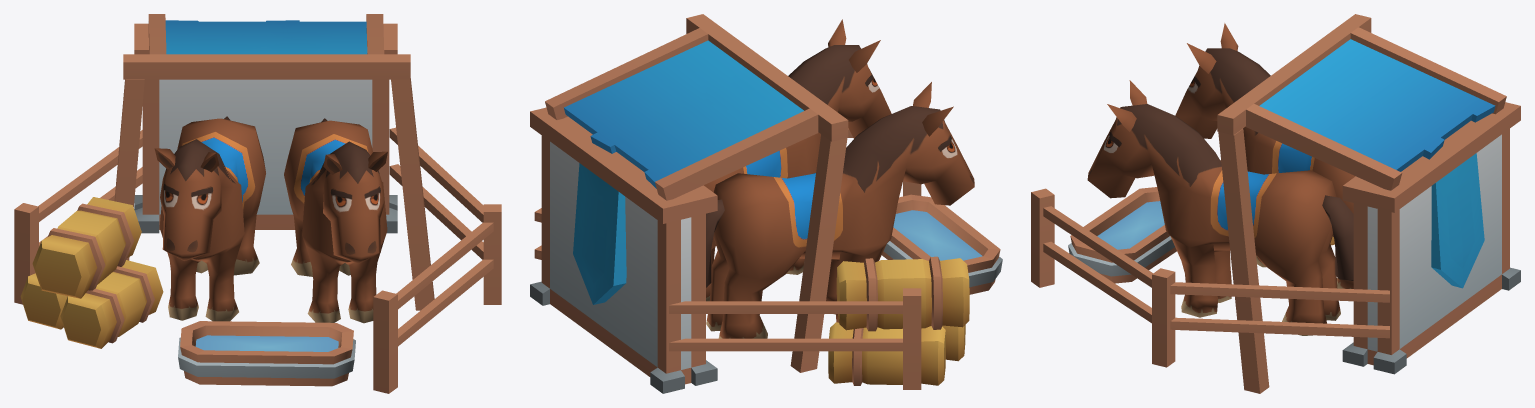
Rendered from Build_Cavalry.fbx.
The picture shows the model from 3 angles, left to right: view 1: azimuth 30°, elevation 25°; view 2: azimuth 150°, elevation 25°; view 3: azimuth 270°, elevation 25°; orthographic projection. The views are drawn at different scales.
Parts seen in each view (by area): view 1: Build_Cavalry; view 2: Build_Cavalry; view 3: Build_Cavalry.
Part boxes in pixels (x1,y1,x2,y2): Build_Cavalry: (14,14,501,393); Build_Cavalry: (530,14,1002,393); Build_Cavalry: (1031,14,1520,393).
Size of the model in its own units: 192 by 123 by 213.
